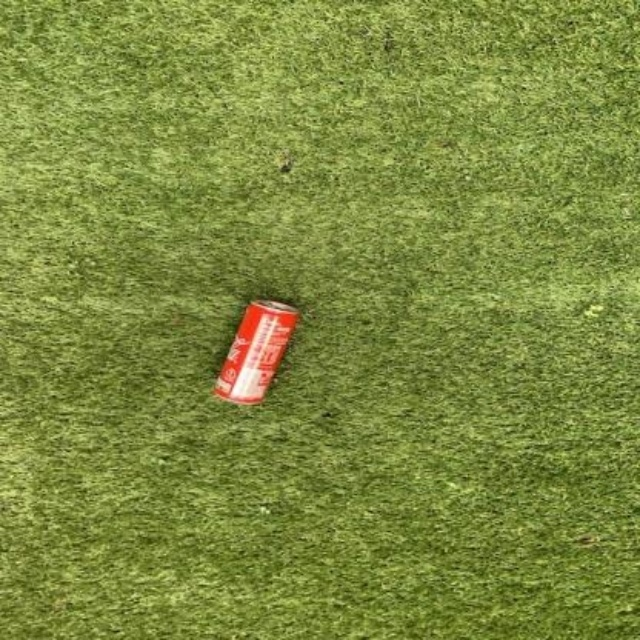trash: (215, 300, 297, 402)
